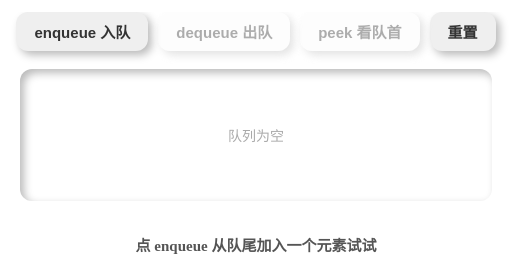
Test case: QueueViz › TC-VIZ-QUEUEVIZ-08 peek 解说队首、不取走
The width and height of the screenshot is (521, 273).
What coordinates should you click on to do the following:
click the button "enqueue 入队"
I would click on:
 (82, 32)
Its box is [16, 12, 148, 51].
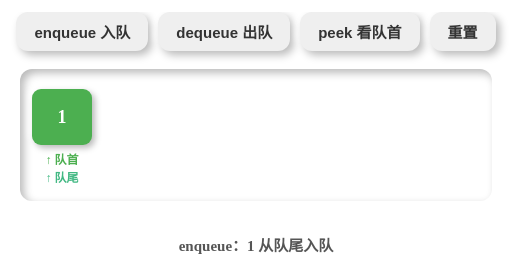
What coordinates should you click on to do the following:
click the button "peek 看队首"
I would click on:
 (360, 32)
Its box is [300, 12, 420, 51].
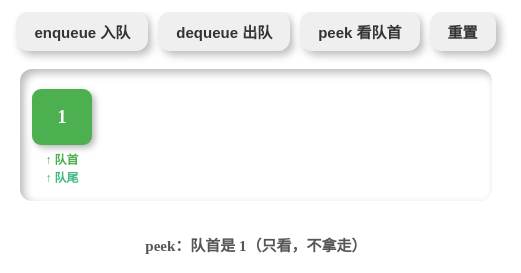
Expected: the message with class "status" shows "队首", [145, 234, 367, 256]
